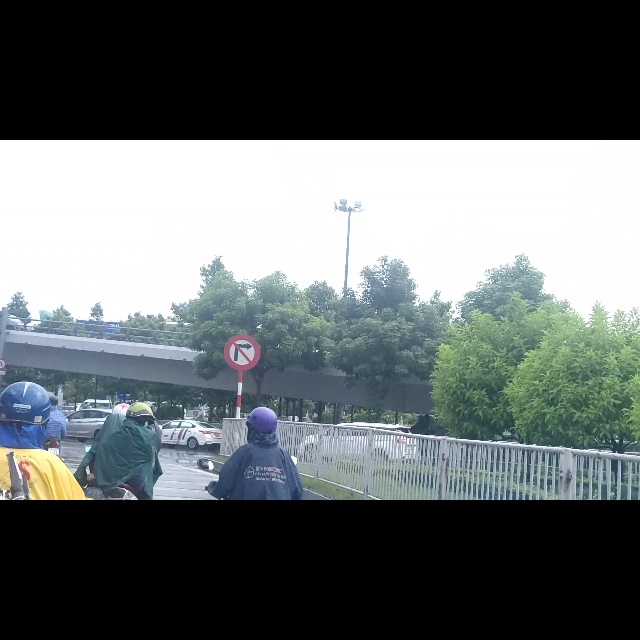bien_cam: (224, 344, 261, 410)
